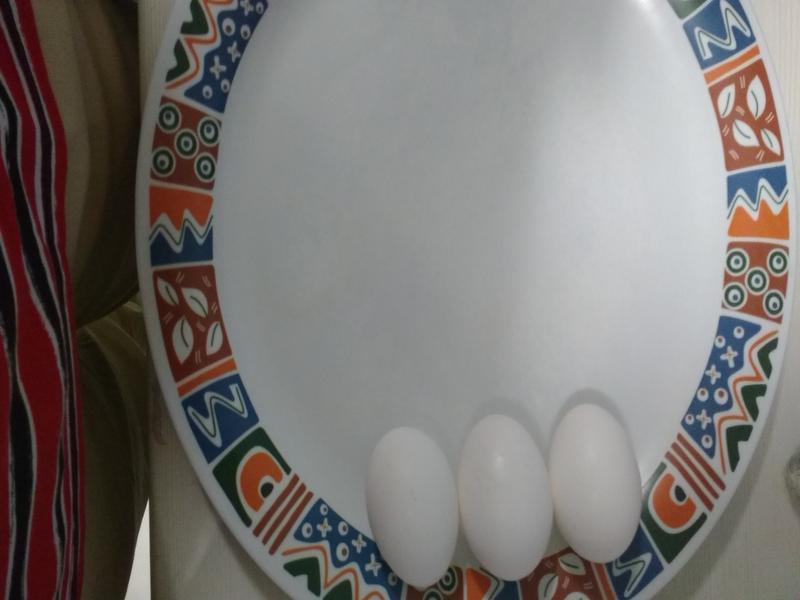egg: (370, 424, 470, 591)
